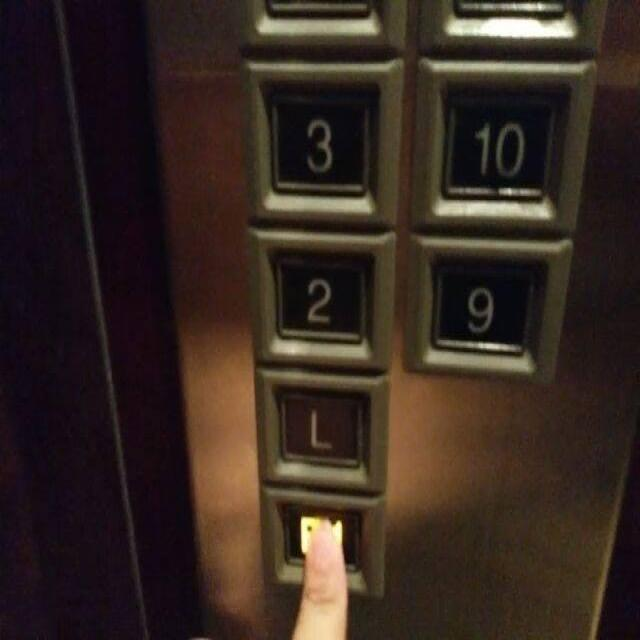10: (412, 52, 598, 237)
2: (247, 225, 392, 375)
3: (239, 56, 401, 225)
9: (406, 231, 574, 388)
L: (250, 369, 385, 491)
